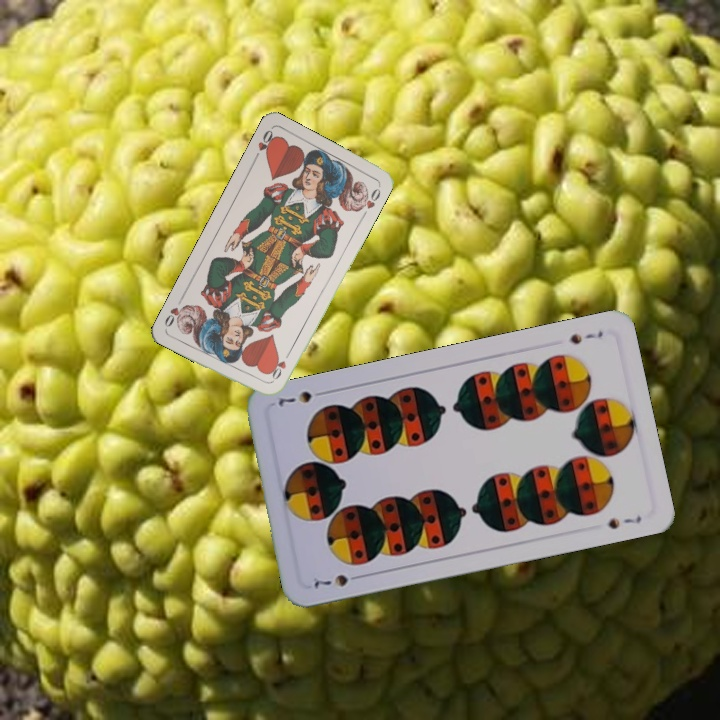HO: (250, 126, 278, 163), (267, 348, 293, 385)
S7: (310, 570, 365, 591), (564, 326, 606, 347)
